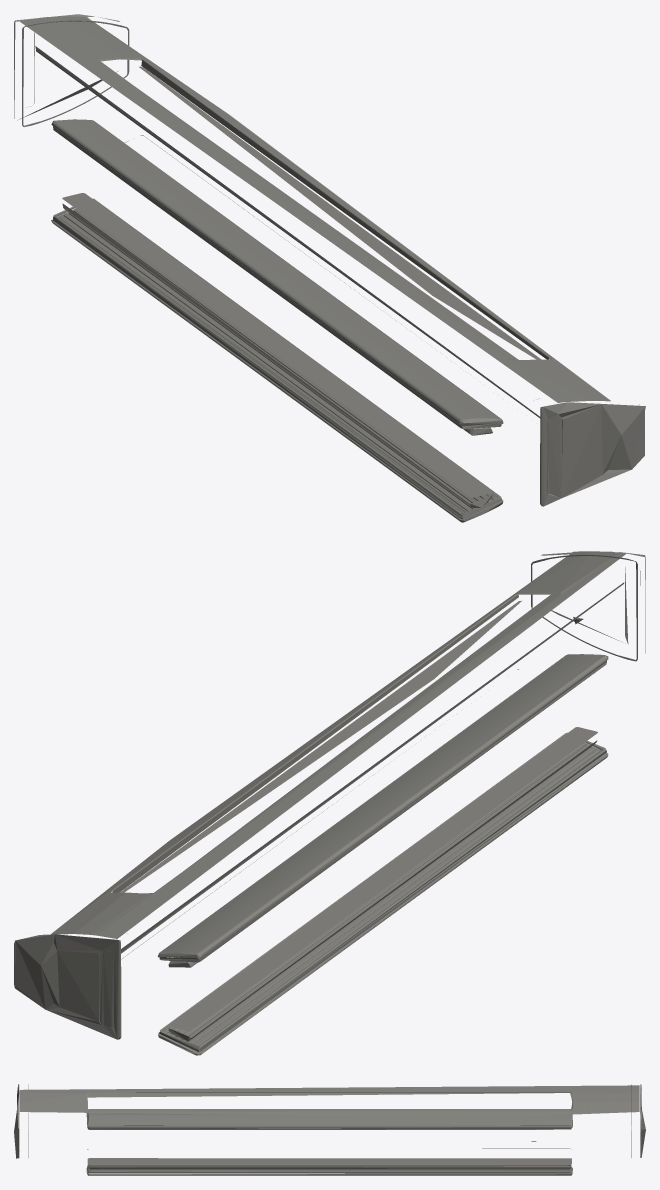
File: light_head_bed_a01.glb
3 renders of one model, top to bottom at view 1: azimuth 30°, elevation 25°; view 2: azimuth 150°, elevation 25°; view 3: azimuth 270°, elevation 25°, orthographic. The views are drawn at different scales.
Parts seen in each view (by area): view 1: geometry_0; view 2: geometry_0; view 3: geometry_0.
Part boxes in pixels (<box>): geometry_0: <box>14,14,645,522</box>; geometry_0: <box>14,551,645,1055</box>; geometry_0: <box>14,1084,645,1175</box>.
Size of the model in its own units: 0.0584 by 0.0673 by 0.42.
Materials: 1 (1 with a texture image).
